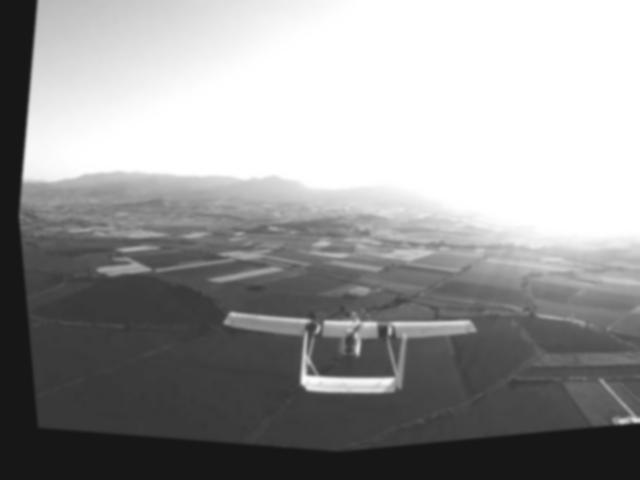hedef: (194, 272, 484, 437)
